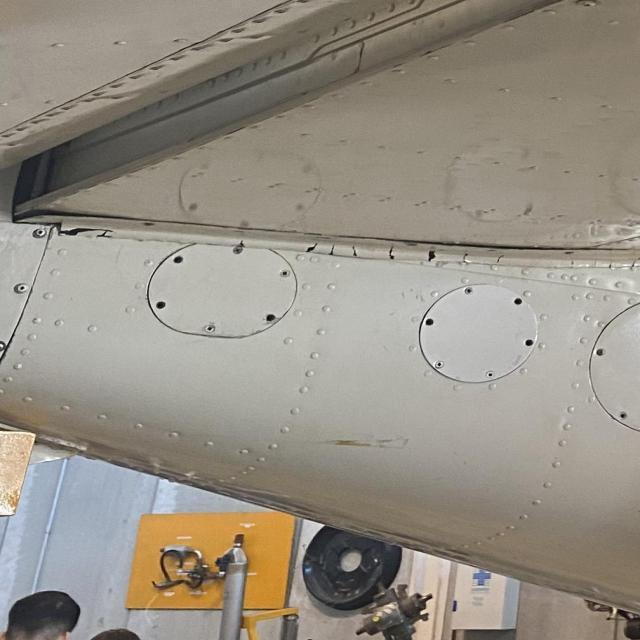Missing-head: (618, 411, 628, 421), (154, 301, 166, 309), (174, 255, 183, 264), (266, 314, 276, 321), (425, 318, 433, 326), (514, 298, 522, 305), (525, 339, 533, 346)
